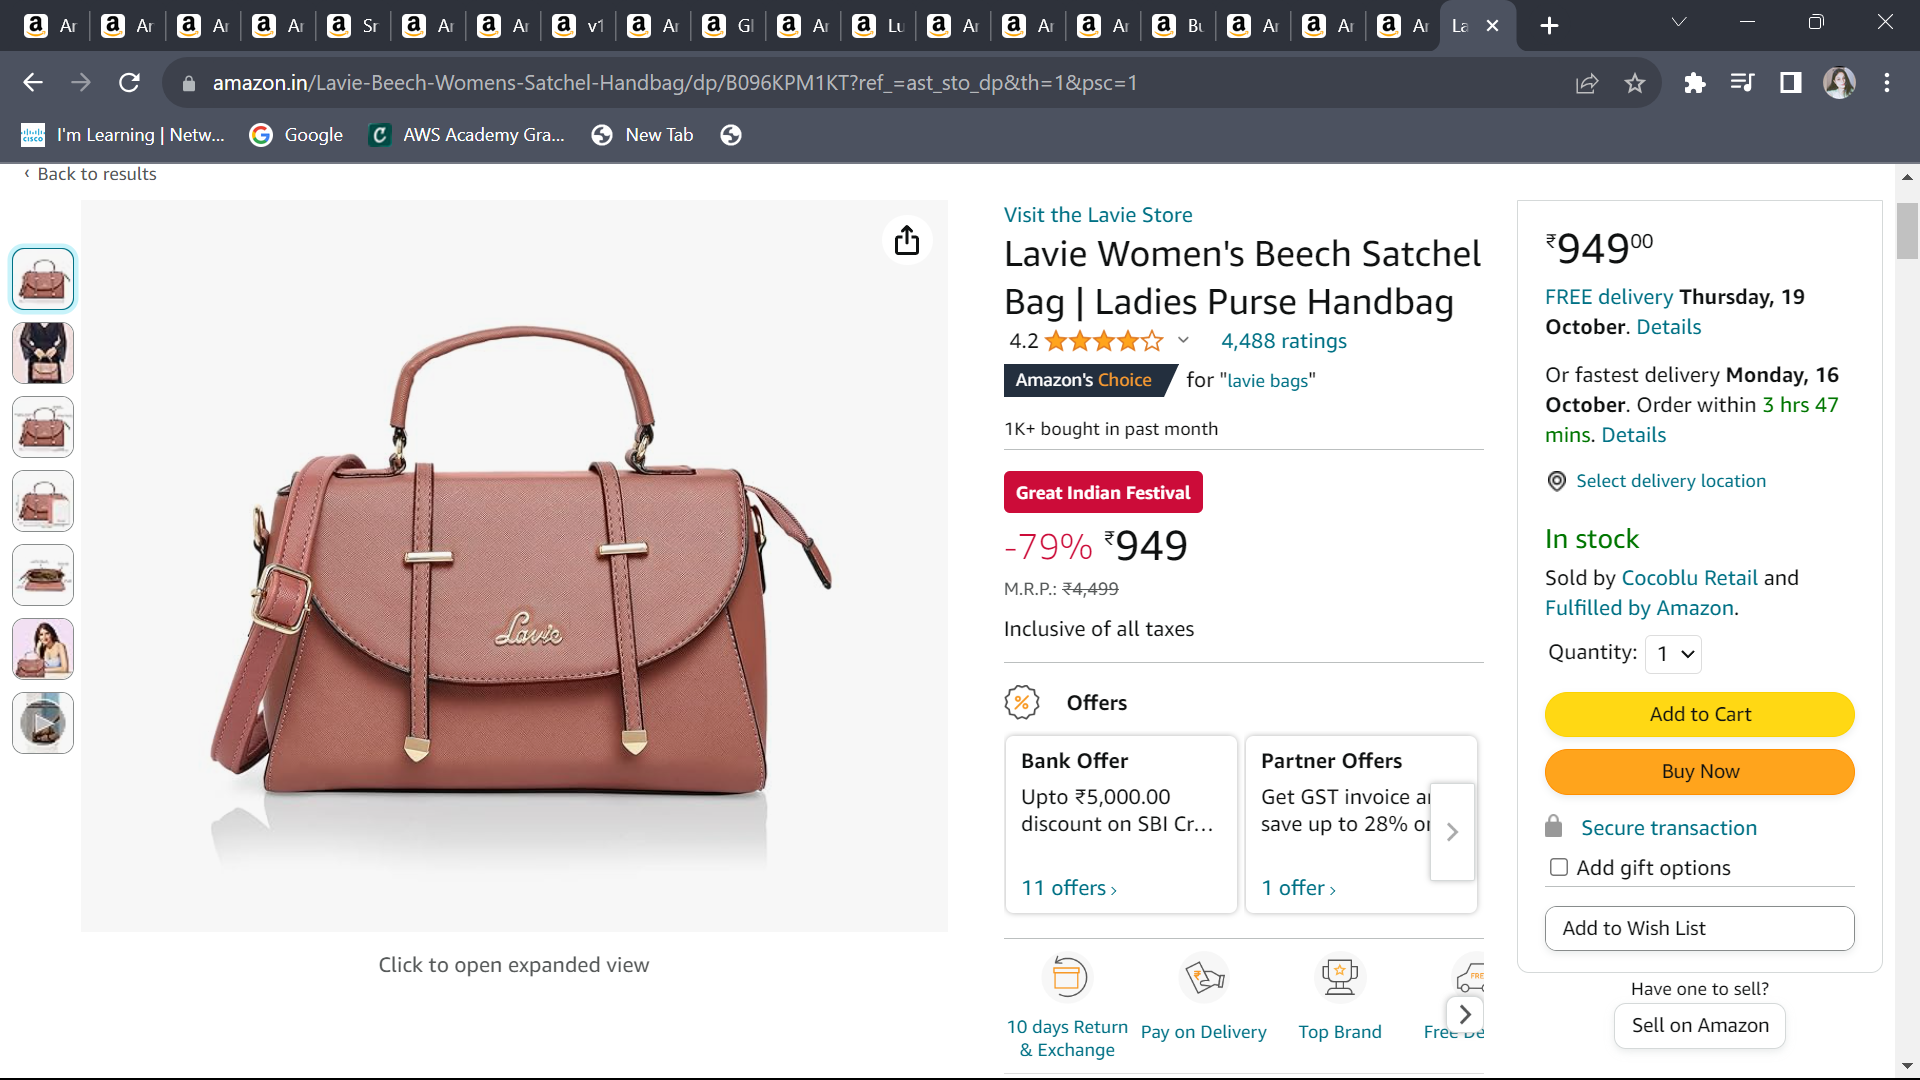Image: (149, 310, 848, 836)
Paragraph: (973, 690, 1495, 926), (971, 245, 1505, 335), (968, 526, 1296, 651), (1493, 355, 1899, 448), (1495, 513, 1828, 624), (1516, 692, 1875, 791), (1532, 862, 1762, 985), (1514, 284, 1857, 355), (335, 935, 687, 1004), (1523, 210, 1726, 278), (1511, 460, 1804, 508), (1523, 806, 1792, 855), (1597, 1009, 1807, 1048), (956, 335, 1370, 355), (1528, 633, 1731, 669), (952, 425, 1251, 436)
